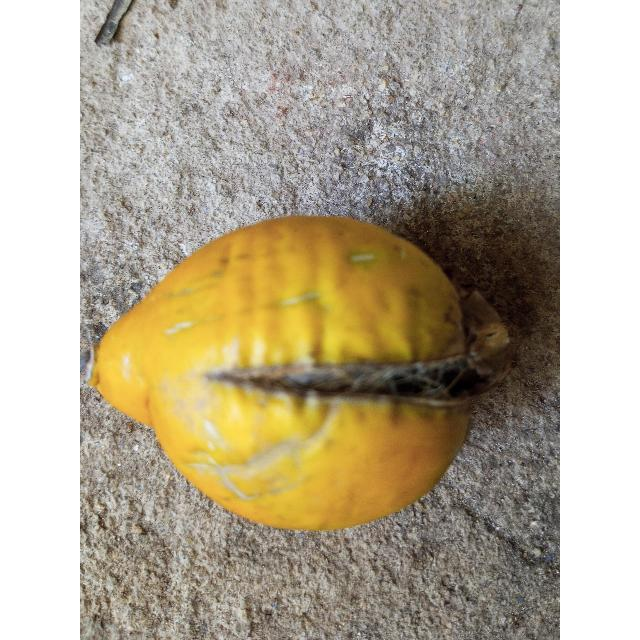damaged: (90, 215, 508, 535)
